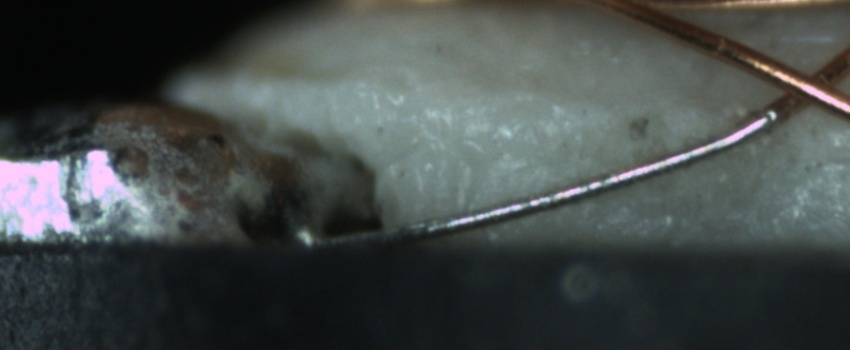CL: (755, 50, 847, 119)
DL: (429, 81, 728, 135)
TS: (309, 110, 775, 251)
